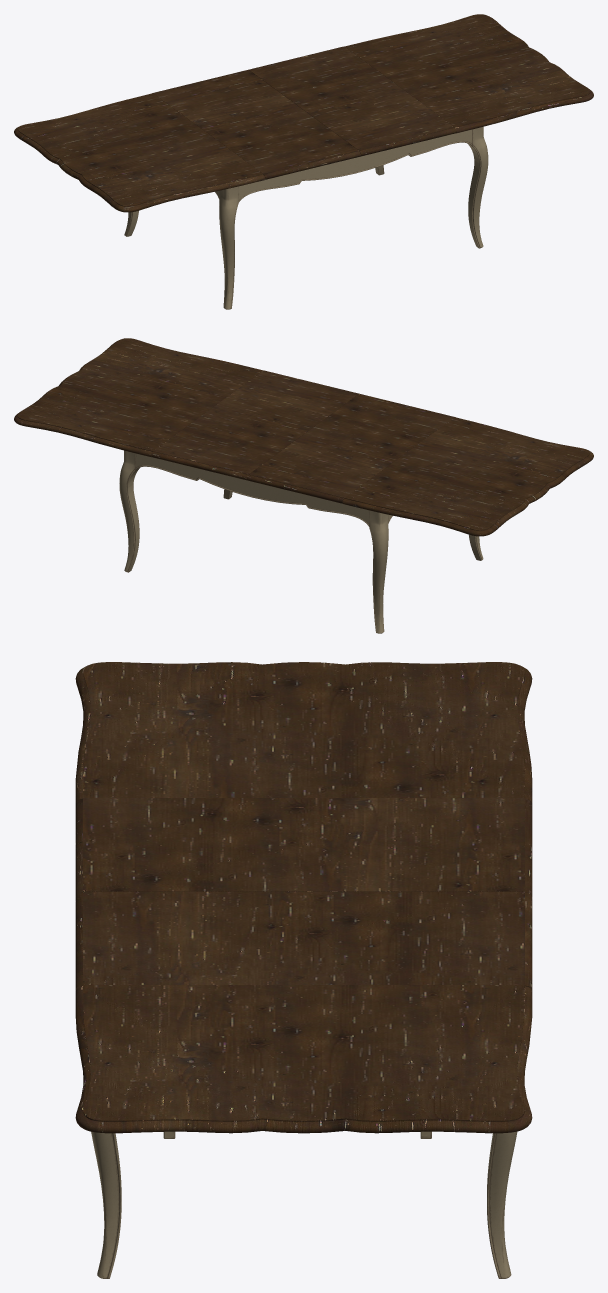
File: example125.gltf
The picture shows the model from 3 angles, top to bottom: view 1: azimuth 30°, elevation 25°; view 2: azimuth 150°, elevation 25°; view 3: azimuth 270°, elevation 25°; orthographic projection. The views are drawn at different scales.
Size of the model in its own units: 289 by 76 by 120.
Materials: 2 (2 with a texture image).
